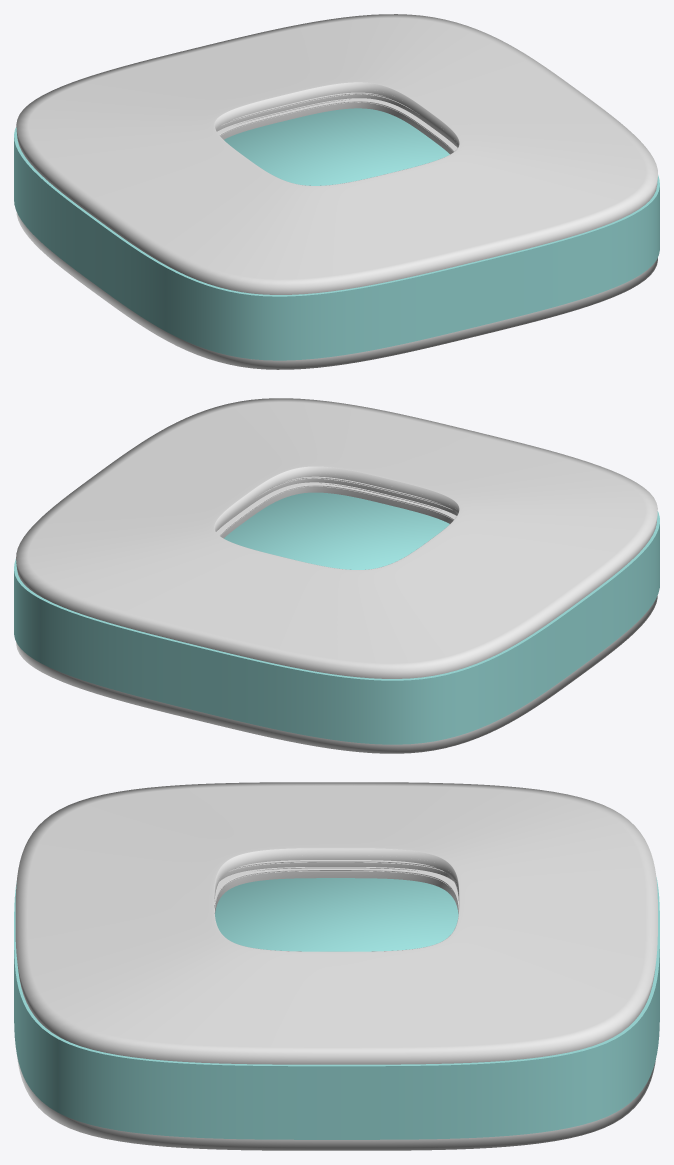
The model's file is AboutUsModel.glb.
3 renders of one model, top to bottom at view 1: azimuth 30°, elevation 25°; view 2: azimuth 150°, elevation 25°; view 3: azimuth 270°, elevation 25°, orthographic. The views are drawn at different scales.
Visible parts, largest first — view 1: Front, OUTER, InsideLarge, Back, HeartCenter, HeartCenter2, HeartCenter.001; view 2: Front, OUTER, InsideLarge, Back, HeartCenter, HeartCenter2, HeartCenter.001; view 3: Front, OUTER, InsideLarge, Back, HeartCenter, HeartCenter2, HeartCenter.001.
Part boxes in pixels (x1,y1,x2,y2): Front: [16, 14, 657, 294]; OUTER: [14, 127, 659, 360]; InsideLarge: [224, 108, 449, 185]; Back: [16, 211, 657, 369]; HeartCenter: [220, 102, 453, 154]; HeartCenter2: [216, 94, 456, 146]; HeartCenter.001: [218, 99, 456, 151]; Front: [16, 398, 657, 678]; OUTER: [14, 511, 659, 744]; InsideLarge: [224, 492, 449, 569]; Back: [16, 596, 657, 753]; HeartCenter: [220, 486, 453, 538]; HeartCenter2: [216, 478, 457, 531]; HeartCenter.001: [217, 483, 455, 535]; Front: [15, 782, 657, 1064]; OUTER: [14, 877, 659, 1139]; InsideLarge: [215, 878, 458, 951]; Back: [17, 1056, 655, 1150]; HeartCenter: [215, 871, 458, 913]; HeartCenter2: [219, 862, 453, 881]; HeartCenter.001: [214, 868, 458, 905].
Bounding box in the file's own units: 2.02 × 0.4586 × 2.02.
